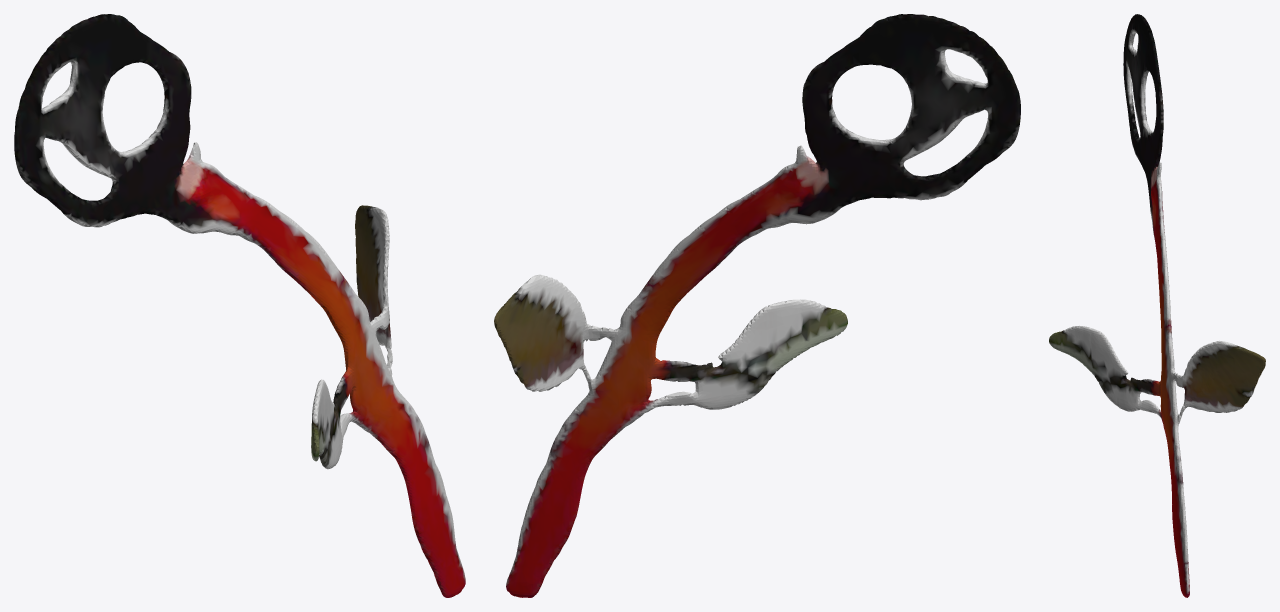
The model's file is rose_wh.glb.
The picture shows the model from 3 angles, left to right: view 1: azimuth 30°, elevation 25°; view 2: azimuth 150°, elevation 25°; view 3: azimuth 270°, elevation 25°; orthographic projection. The views are drawn at different scales.
Parts seen in each view (by area): view 1: geometry_0; view 2: geometry_0; view 3: geometry_0.
Boxes of the visible parts, box(x1,y1,x2,y2) form: geometry_0: box(14, 14, 465, 597); geometry_0: box(494, 14, 1020, 597); geometry_0: box(1049, 14, 1265, 597).
Bounding box in the file's own units: 0.4688 × 0.6243 × 0.2726.
